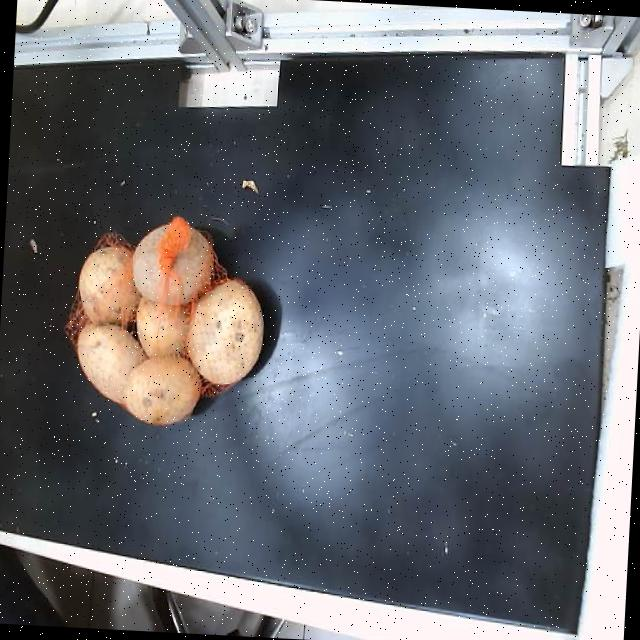potato: (185, 279, 263, 383), (133, 216, 213, 303), (76, 324, 145, 403), (125, 355, 200, 425), (78, 245, 140, 323), (136, 298, 189, 354)
